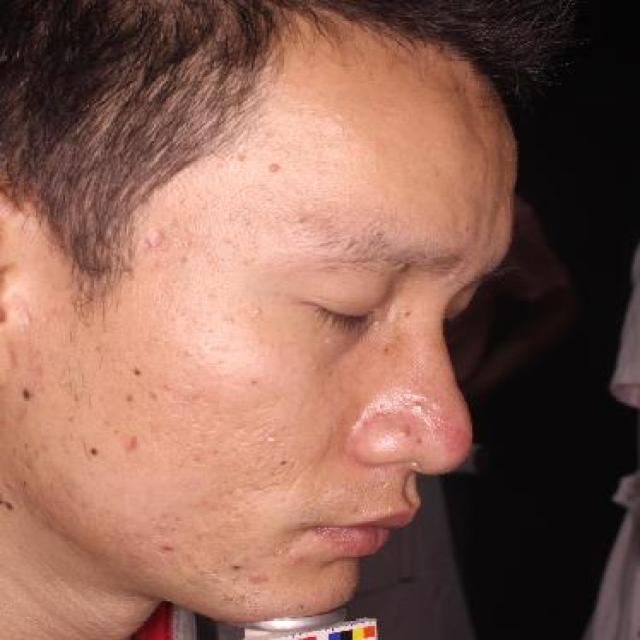blackheads: (270, 450, 298, 472)
dark spot: (123, 434, 147, 451)
papules: (264, 158, 288, 177), (248, 569, 270, 583), (412, 400, 430, 412)
whiteheads: (222, 311, 240, 329), (250, 303, 269, 319), (310, 362, 322, 376)
